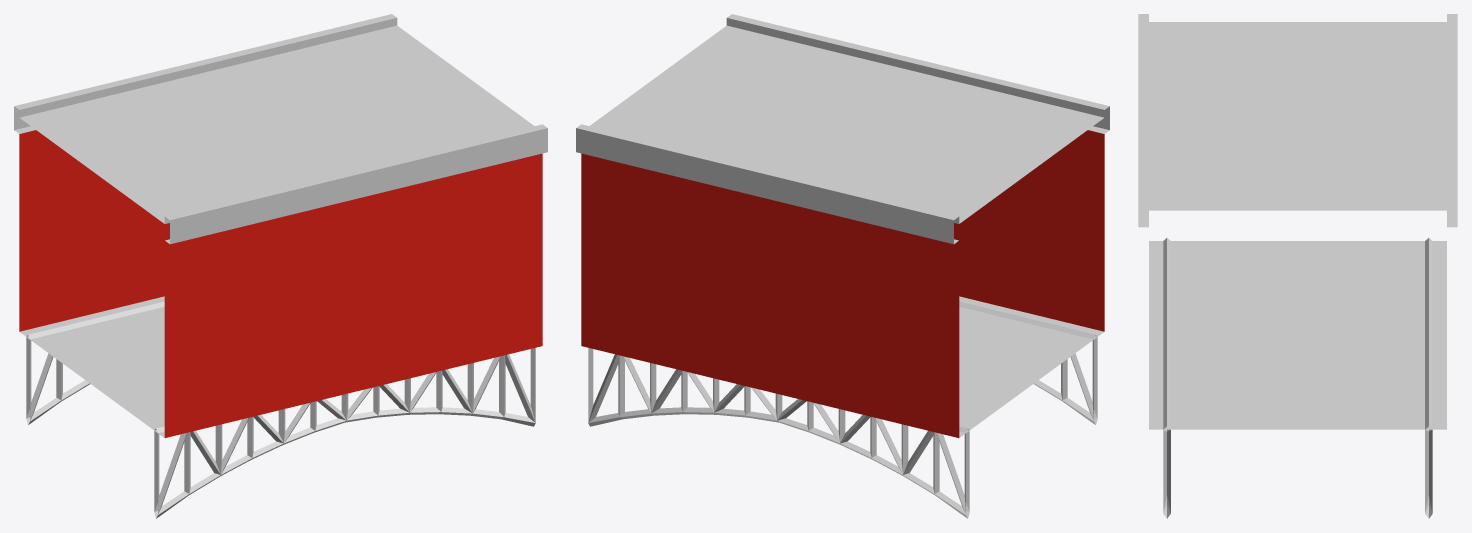
The model's file is OverPassBuilding.fbx.
The picture shows the model from 3 angles, left to right: view 1: azimuth 30°, elevation 25°; view 2: azimuth 150°, elevation 25°; view 3: azimuth 270°, elevation 25°; orthographic projection. The views are drawn at different scales.
Parts seen in each view (by area): view 1: OverPassBuilding; view 2: OverPassBuilding; view 3: OverPassBuilding.
Boxes of the visible parts, x1,y1,x2,y2 form: OverPassBuilding: (14,14,547,518); OverPassBuilding: (576,14,1109,518); OverPassBuilding: (1138,14,1457,518).
Bounding box in the file's own units: 1200 × 938 × 858.
